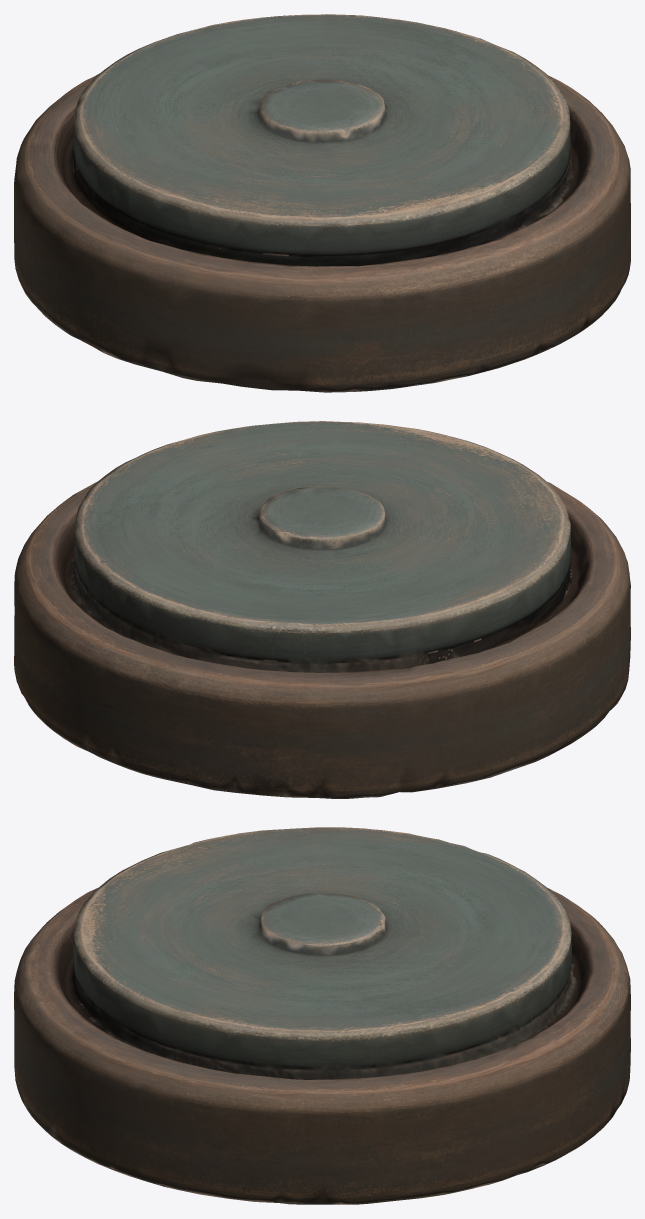
The model's file is Prop_PressPlate.fbx.
The picture shows the model from 3 angles, top to bottom: view 1: azimuth 30°, elevation 25°; view 2: azimuth 150°, elevation 25°; view 3: azimuth 270°, elevation 25°; orthographic projection.
Visible parts, largest first — view 1: texture_mapping; view 2: texture_mapping; view 3: texture_mapping.
Part boxes in pixels (x1,y1,x2,y2): texture_mapping: (14,14,630,392); texture_mapping: (14,421,630,798); texture_mapping: (14,827,630,1204).
Bounding box in the file's own units: 1 × 1 × 0.2852.
Materials: 1 (1 with a texture image).
